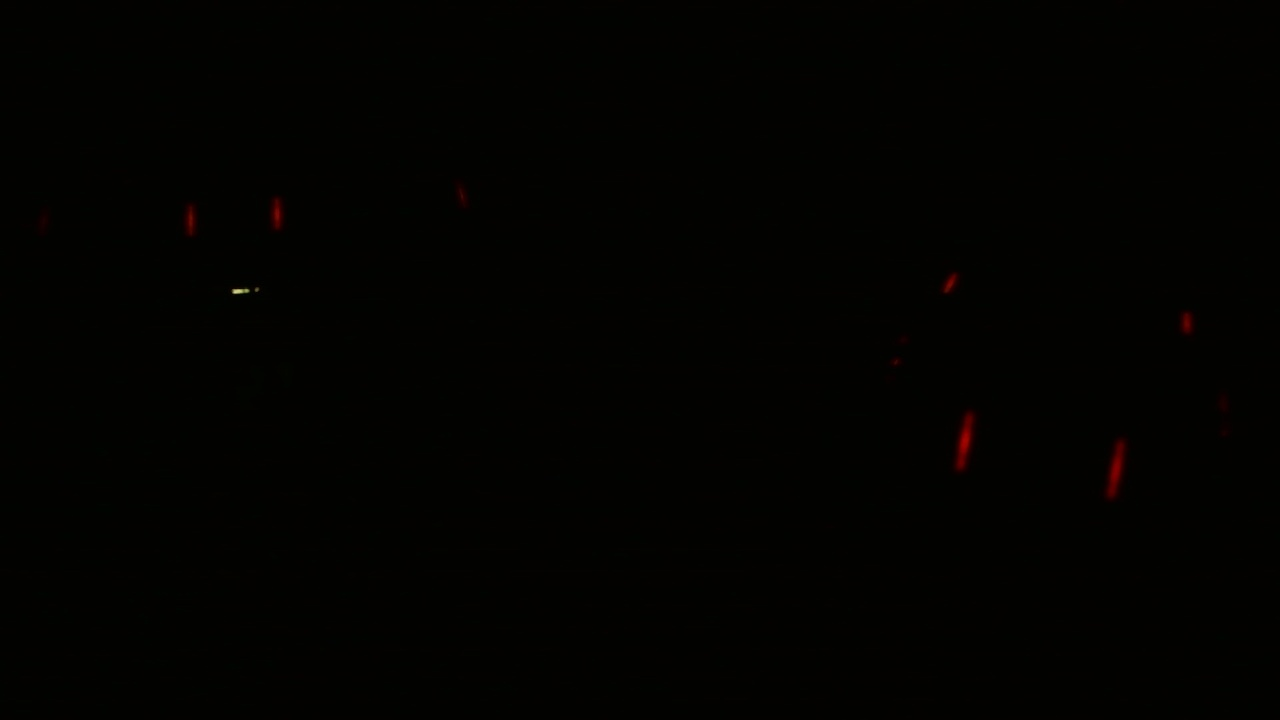pair1: (955, 405, 1126, 500), (181, 191, 288, 239)
